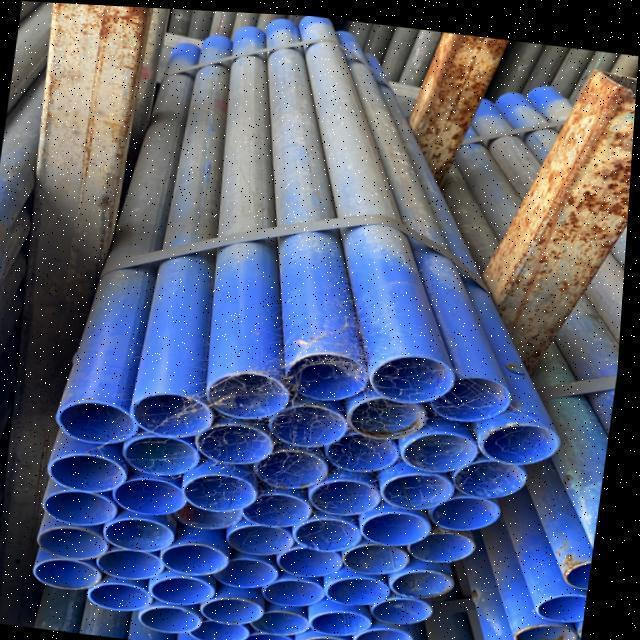pipe: (283, 348, 369, 398), (272, 388, 353, 440), (371, 349, 456, 398), (427, 367, 512, 416), (205, 370, 289, 417), (59, 401, 143, 445), (253, 442, 335, 487), (314, 422, 404, 463), (134, 391, 213, 437), (402, 421, 481, 467), (51, 448, 135, 491), (349, 389, 431, 433), (451, 448, 532, 492), (198, 419, 276, 463), (481, 417, 560, 460), (47, 482, 131, 522), (186, 468, 263, 511), (416, 488, 505, 525), (400, 520, 484, 559), (113, 473, 192, 514), (124, 433, 201, 474), (363, 495, 437, 537), (310, 470, 382, 513), (101, 516, 181, 554), (383, 464, 461, 502), (243, 484, 317, 523), (341, 536, 415, 574), (88, 546, 174, 578), (297, 510, 369, 548), (207, 549, 291, 581), (371, 590, 442, 625), (164, 539, 233, 575), (228, 518, 300, 552), (273, 543, 351, 574), (37, 556, 106, 590), (392, 561, 460, 595), (199, 593, 273, 623), (264, 571, 330, 604), (177, 499, 252, 527), (329, 571, 396, 602), (43, 527, 108, 558), (92, 579, 157, 610), (315, 603, 381, 631), (157, 573, 220, 601), (254, 604, 317, 631), (144, 604, 208, 630), (522, 616, 583, 640), (193, 618, 253, 640), (359, 622, 421, 640), (544, 590, 587, 614), (244, 632, 299, 640), (306, 633, 361, 640)
